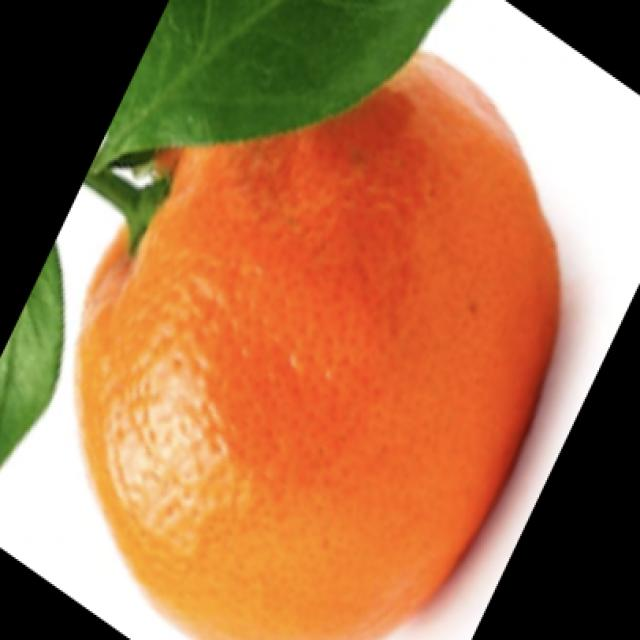fresh: (56, 0, 565, 640)
